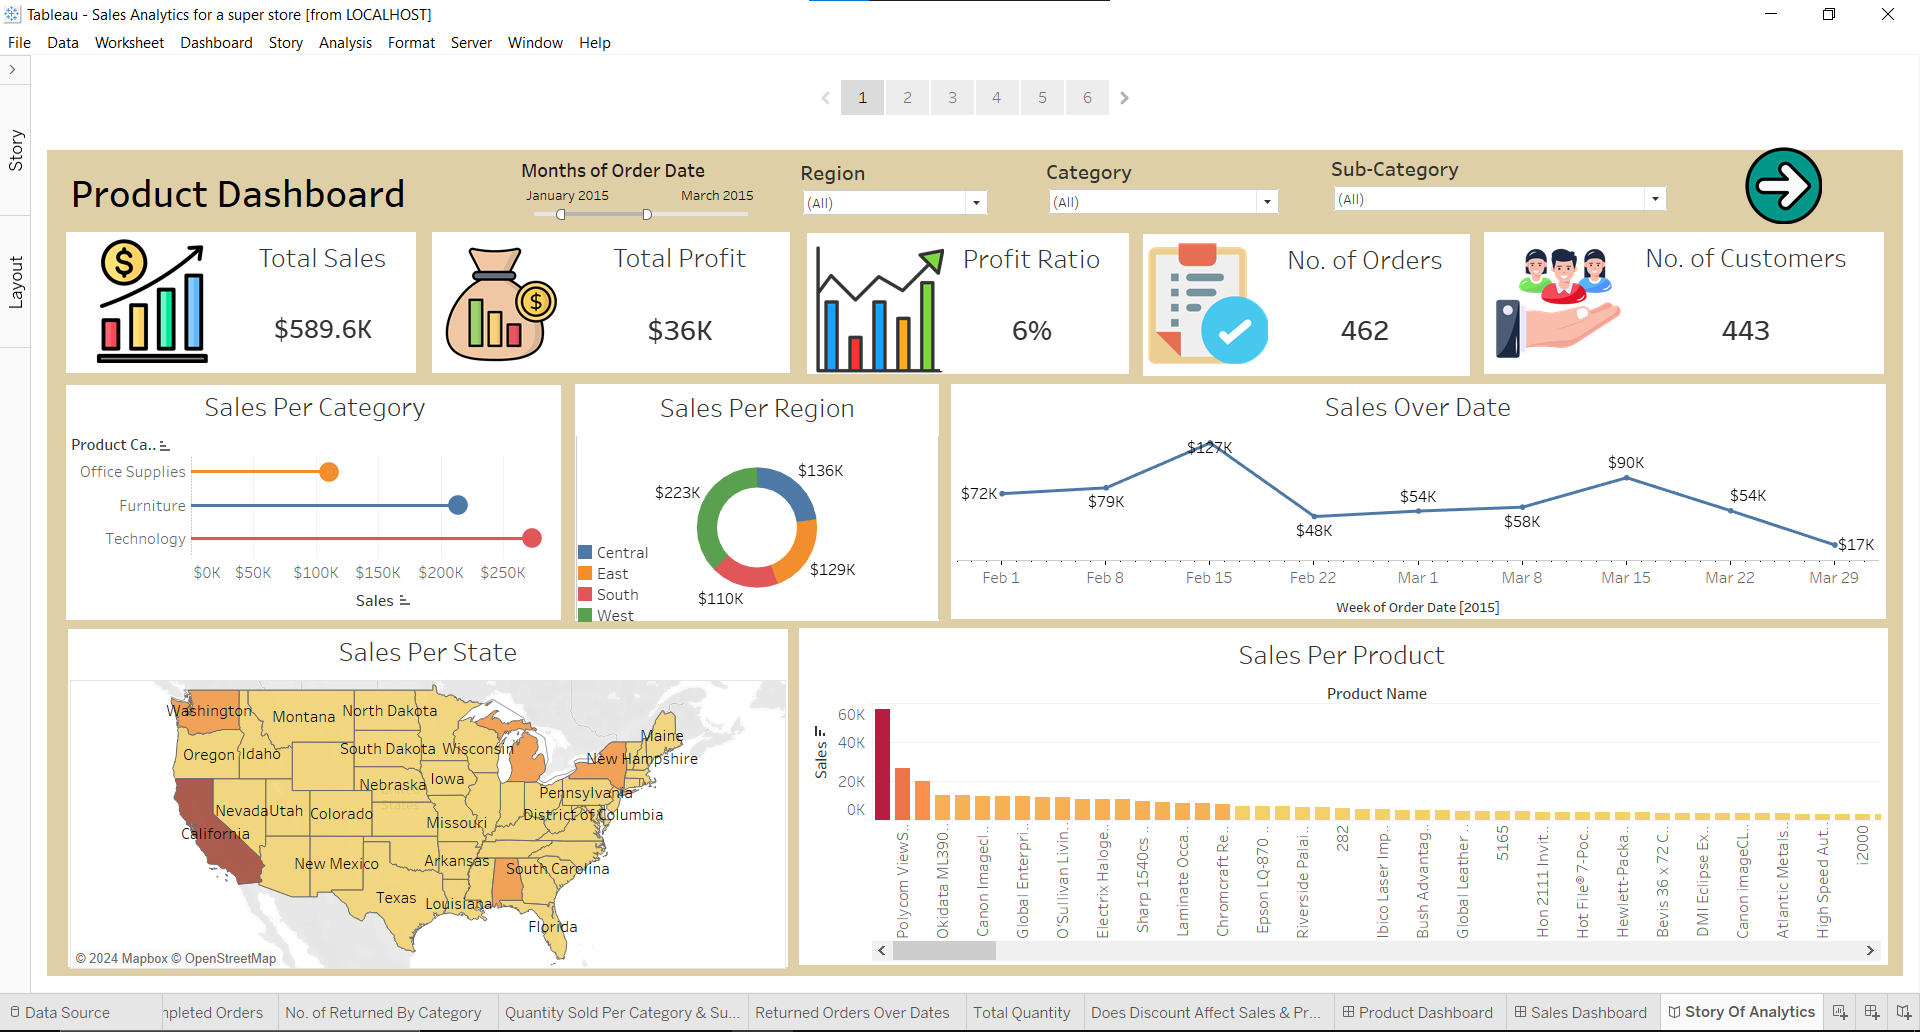

What the dashboard file says about the page in this screenshot:
{"tool":"tableau","page":{"name":"Product Dashboard","canvas":[1000,1000],"units":"permille","ordinal":0},"visuals":[{"type":"dashboard-object","box":[884,5.8,95.9,91.8]},{"type":"title","box":[4.2,8.5,991.5,89.7]},{"type":"filter","title":"Sales and profit by Product","param":"[federated.1dbbvk01hzzlmb17xga3f17phd9q].[attr:Product Sub-Category:nk]","box":[690,14.6,181.3,80.4]},{"type":"filter","title":"Sales Over Date","param":"[federated.1dbbvk01hzzlmb17xga3f17phd9q].[tmn:Order Date:qk]","box":[257.3,17.4,128.1,84.8]},{"type":"filter","title":"Sales and profit by Product","param":"[federated.1dbbvk01hzzlmb17xga3f17phd9q].[attr:Product Category:nk]","box":[538.2,17.4,126.3,79]},{"type":"filter","title":"Sales Per Region","param":"[federated.1dbbvk01hzzlmb17xga3f17phd9q].[none:Region:nk]","box":[406.5,18.6,102.2,84.8]},{"type":"blank","box":[14.4,106.9,187,167.2]},{"type":"blank","box":[210.1,106.9,191.4,167.2]},{"type":"blank","box":[771.7,106.9,213.9,168.4]},{"type":"blank","box":[410.3,108,172,167.2]},{"type":"blank","box":[589.7,109.2,174.5,168.4]},{"type":"worksheet","title":"Total Sales","mark":"Automatic","box":[101.3,111.5,100.1,159.1]},{"type":"worksheet","title":"Total Profit","mark":"Automatic","box":[285.2,111.5,114.5,160.3]},{"type":"worksheet","title":"No. of Customers","mark":"Automatic","box":[845.5,111.5,132.6,160.3]},{"type":"worksheet","title":"Profit Ratio","mark":"Automatic","box":[481.6,112.7,97.6,159.1]},{"type":"image","param":"Image/service.png","box":[776.1,112.7,77.5,156.8]},{"type":"worksheet","title":"No. of Orders","mark":"Automatic","box":[656,113.8,104.4,156.8]},{"type":"image","param":"Image/increasing_5329526.png","box":[15.6,115,90.1,147.5]},{"type":"image","param":"Image/money-bag_9769675.png","box":[212,115,81.9,154.5]},{"type":"image","param":"Image/completed-task.png","box":[592.2,119.6,64.4,170.7]},{"type":"image","param":"Image/chart.png","box":[415.3,122,68.2,162.6]},{"type":"blank","box":[286.1,286.9,194.5,282.2]},{"type":"blank","box":[487.1,286.9,499.4,279.9]},{"type":"blank","box":[14.7,288,264.4,279.9]},{"type":"worksheet","title":"Lollipop for category and sales","mark":"Circle","rows":["Product Category"],"cols":["Sales","Sales"],"box":[17,288,260.9,276.4]},{"type":"worksheet","title":"Sales Over Date","mark":"Automatic","rows":["Sales"],"cols":["Order Date"],"box":[490.6,288,492.4,274.1]},{"type":"worksheet","title":"Sales Per Region","mark":"Pie","rows":["Calculation_911697486410854401","Calculation_911697486410878979"],"box":[286.7,289.2,193.9,277.6]},{"type":"legend","title":"Sales Over Date","param":"[federated.1dbbvk01hzzlmb17xga3f17phd9q].[none:Forecast Indicator:nk]","box":[865.5,296.2,85.2,52.3]},{"type":"legend","title":"Sales Per Region","param":"[federated.1dbbvk01hzzlmb17xga3f17phd9q].[none:Region:nk]","box":[286.1,475,50.5,99.9]},{"type":"blank","box":[406,577.2,581.7,400.7]},{"type":"blank","box":[15.3,578.4,384.8,401.9]},{"type":"worksheet","title":"Map for Profit - Drill by region sales","mark":"Automatic","box":[16.4,579.6,382.5,403]},{"type":"worksheet","title":"Sales and profit by Product","mark":"Automatic","rows":["Sales"],"cols":["Product Name"],"box":[408.3,583,575.8,389.1]}]}

Visuals, with their boxes on the dashboard's canvas, which has no fixed pixel size, in thousandths of its width and height (x1, y1, x2, y2). These are canvas units, not pixel positions in the 1920x1032 screenshot, which may show the page scaled, cropped or inside an application window:
dashboard-object: (x1=884, y1=6, x2=980, y2=98)
title: (x1=4, y1=8, x2=996, y2=98)
"Sales and profit by Product" filter: (x1=690, y1=15, x2=871, y2=95)
"Sales Over Date" filter: (x1=257, y1=17, x2=385, y2=102)
"Sales and profit by Product" filter: (x1=538, y1=17, x2=664, y2=96)
"Sales Per Region" filter: (x1=406, y1=19, x2=509, y2=103)
blank: (x1=14, y1=107, x2=201, y2=274)
blank: (x1=210, y1=107, x2=402, y2=274)
blank: (x1=772, y1=107, x2=986, y2=275)
blank: (x1=410, y1=108, x2=582, y2=275)
blank: (x1=590, y1=109, x2=764, y2=278)
"Total Sales" worksheet: (x1=101, y1=112, x2=201, y2=271)
"Total Profit" worksheet: (x1=285, y1=112, x2=400, y2=272)
"No. of Customers" worksheet: (x1=846, y1=112, x2=978, y2=272)
"Profit Ratio" worksheet: (x1=482, y1=113, x2=579, y2=272)
image: (x1=776, y1=113, x2=854, y2=270)
"No. of Orders" worksheet: (x1=656, y1=114, x2=760, y2=271)
image: (x1=16, y1=115, x2=106, y2=262)
image: (x1=212, y1=115, x2=294, y2=270)
image: (x1=592, y1=120, x2=657, y2=290)
image: (x1=415, y1=122, x2=484, y2=285)
blank: (x1=286, y1=287, x2=481, y2=569)
blank: (x1=487, y1=287, x2=986, y2=567)
blank: (x1=15, y1=288, x2=279, y2=568)
"Lollipop for category and sales" worksheet (Circle marks): (x1=17, y1=288, x2=278, y2=564)
"Sales Over Date" worksheet: (x1=491, y1=288, x2=983, y2=562)
"Sales Per Region" worksheet (Pie marks): (x1=287, y1=289, x2=481, y2=567)
"Sales Over Date" legend: (x1=866, y1=296, x2=951, y2=348)
"Sales Per Region" legend: (x1=286, y1=475, x2=337, y2=575)
blank: (x1=406, y1=577, x2=988, y2=978)
blank: (x1=15, y1=578, x2=400, y2=980)
"Map for Profit - Drill by region sales" worksheet: (x1=16, y1=580, x2=399, y2=983)
"Sales and profit by Product" worksheet: (x1=408, y1=583, x2=984, y2=972)
